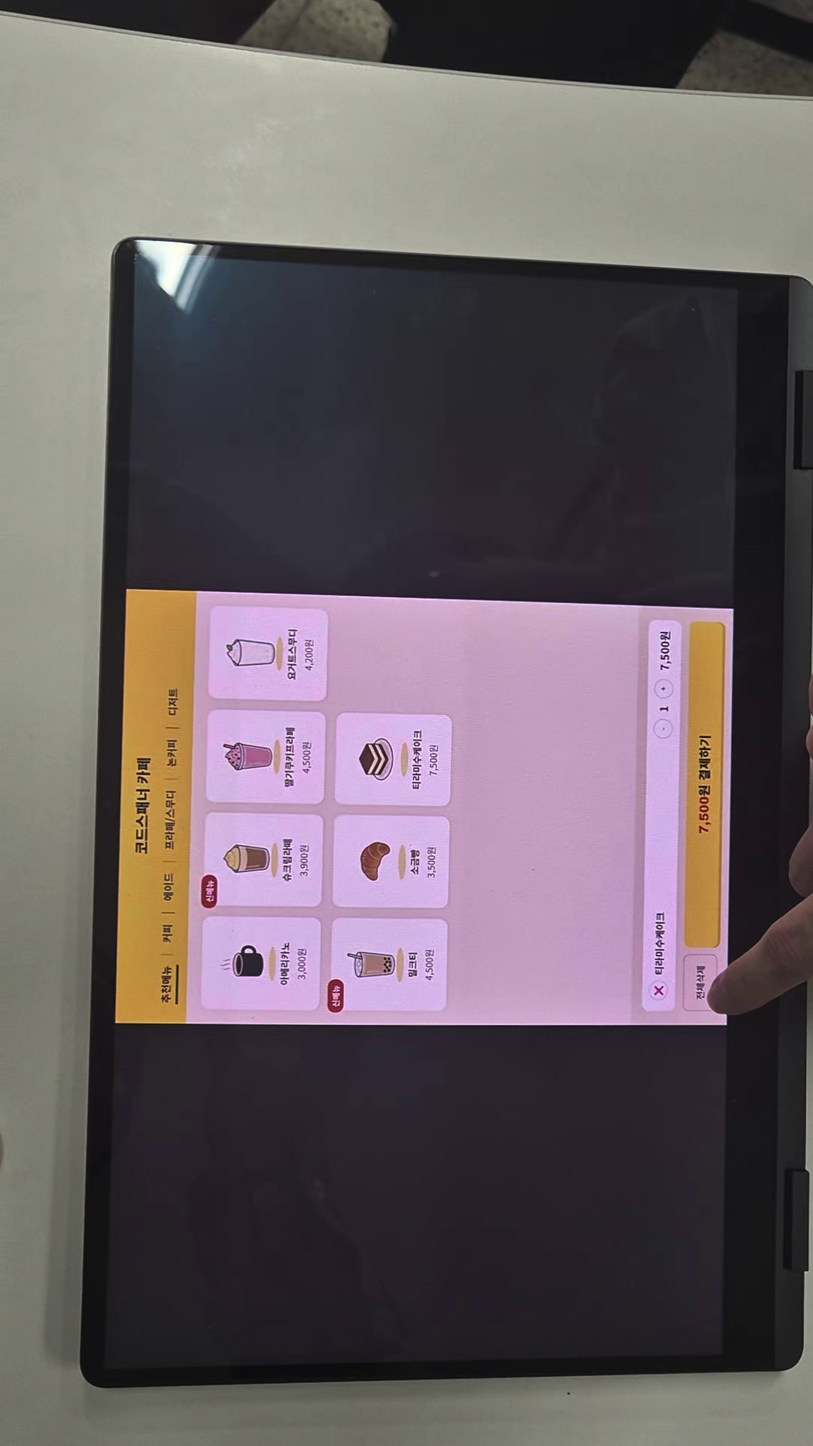action_button: (689, 619, 722, 946), (686, 955, 719, 1011)
cart_item: (641, 621, 680, 1012)
category_tab: (166, 784, 180, 854), (157, 963, 177, 1009), (164, 686, 184, 723), (161, 871, 177, 909), (164, 736, 181, 771), (161, 920, 175, 947)
menu_back: (206, 809, 323, 908), (207, 604, 327, 700), (207, 708, 324, 805), (201, 915, 318, 1012), (336, 712, 450, 808), (335, 812, 449, 908), (333, 917, 448, 1009)
menu_name: (279, 722, 297, 794), (282, 624, 300, 685), (408, 729, 422, 794), (280, 836, 296, 888), (278, 940, 290, 995), (404, 943, 419, 983), (409, 845, 425, 876)
menu_price: (420, 947, 438, 983), (425, 737, 439, 777), (295, 945, 310, 982), (299, 739, 312, 781), (426, 843, 439, 880), (304, 637, 316, 677), (298, 842, 311, 878)
